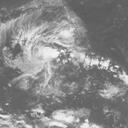cyclone: (17, 21, 77, 79)
